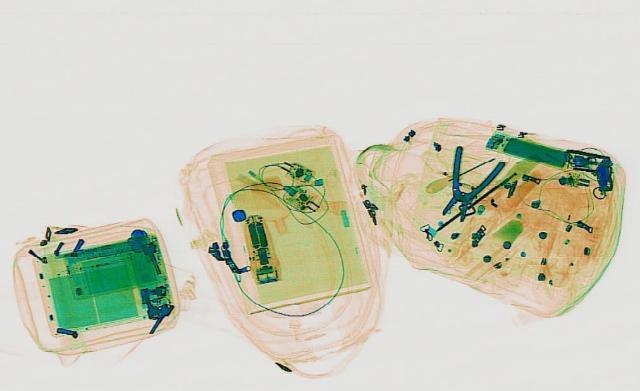Pliers: (422, 144, 508, 223)
